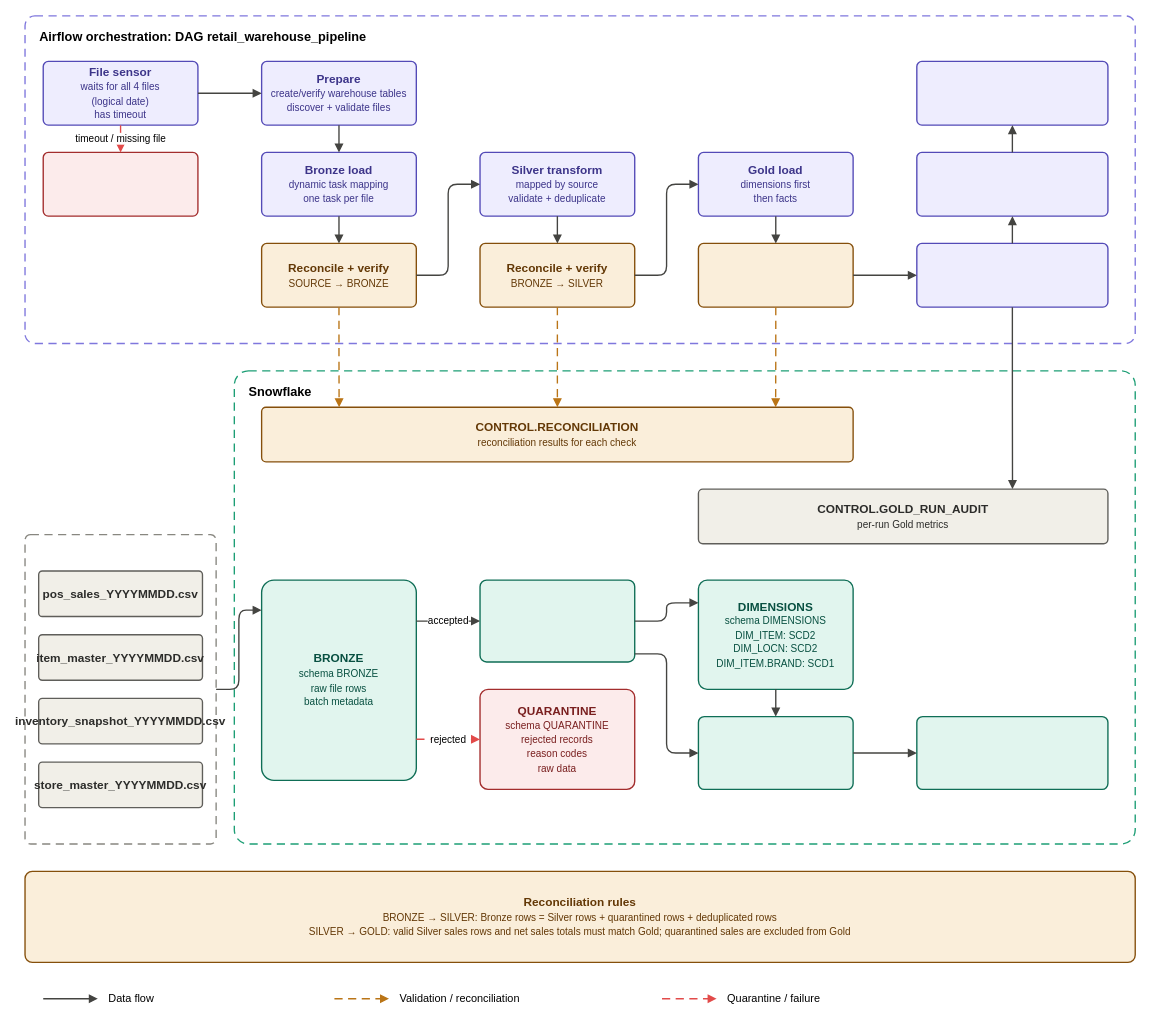
Image size: 1152x1026. Some labels were removed from this diagram. The shapes that lost their labels are listed below. From the top down, each one's box as (x1, y1, x2, y2) in pixels, then its label:
(916, 60, 1108, 125): Pipeline summary end of run
(42, 151, 198, 216): Fail DAG sensor timeout missing file
(916, 151, 1108, 216): Reporting views PUBLIC schema
(697, 242, 853, 307): Reconcile + verify SILVER → GOLD
(916, 242, 1108, 307): Gold run-metrics audit per-run Gold metrics
(479, 579, 635, 662): SILVER schema SILVER accepted, cleaned records
(24, 534, 216, 844): Source files mounted data folder (dated CSVs)
(697, 716, 853, 790): FACTS schema FACTS FCT_SALES FCT_INVENTORY
(916, 716, 1108, 790): PUBLIC reporting views
